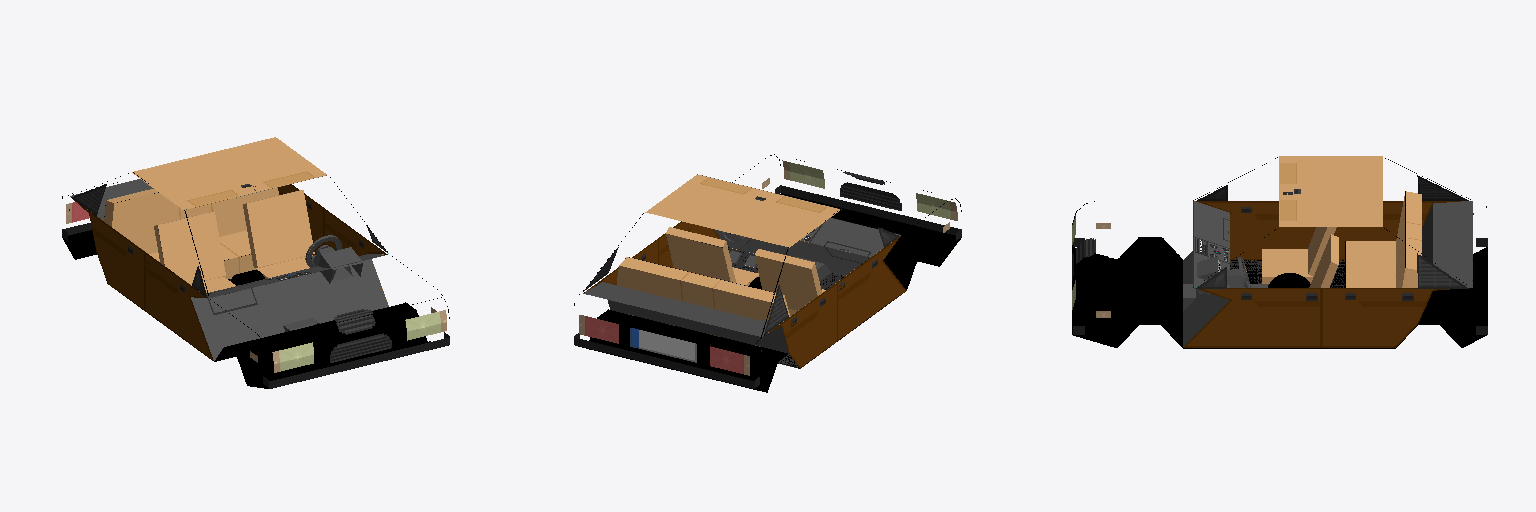
3 renders of one model, left to right at view 1: azimuth 30°, elevation 25°; view 2: azimuth 150°, elevation 25°; view 3: azimuth 270°, elevation 25°, orthographic.
Visible parts, largest first — view 1: interior, body; view 2: interior, body; view 3: interior, body.
Boxes of the visible parts, <box> form: interior: <box>70,137,388,360</box>; body: <box>62,172,449,388</box>; interior: <box>583,174,906,368</box>; body: <box>574,154,961,392</box>; interior: <box>1183,156,1472,347</box>; body: <box>1072,157,1487,348</box>.
Bounding box in the file's own units: 2 × 1.35 × 3.98.
2 materials, 2 textured.